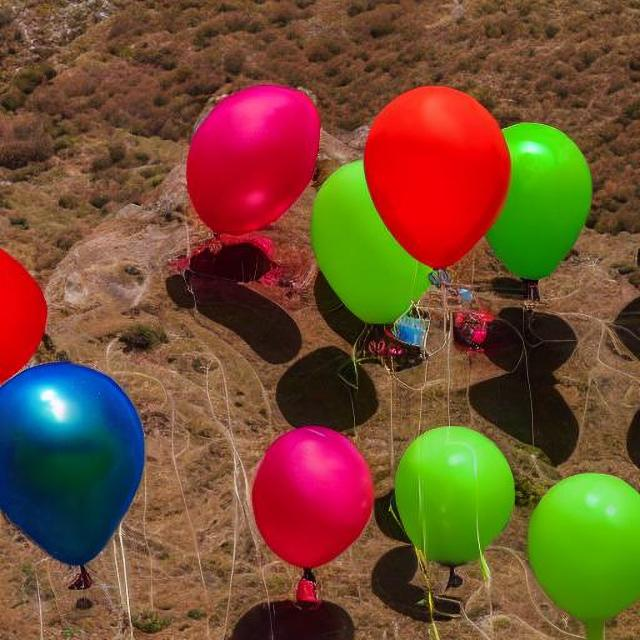balloon: (301, 91, 571, 343), (1, 370, 152, 574), (172, 83, 320, 242), (525, 454, 640, 638), (388, 418, 516, 576), (239, 426, 373, 572)
